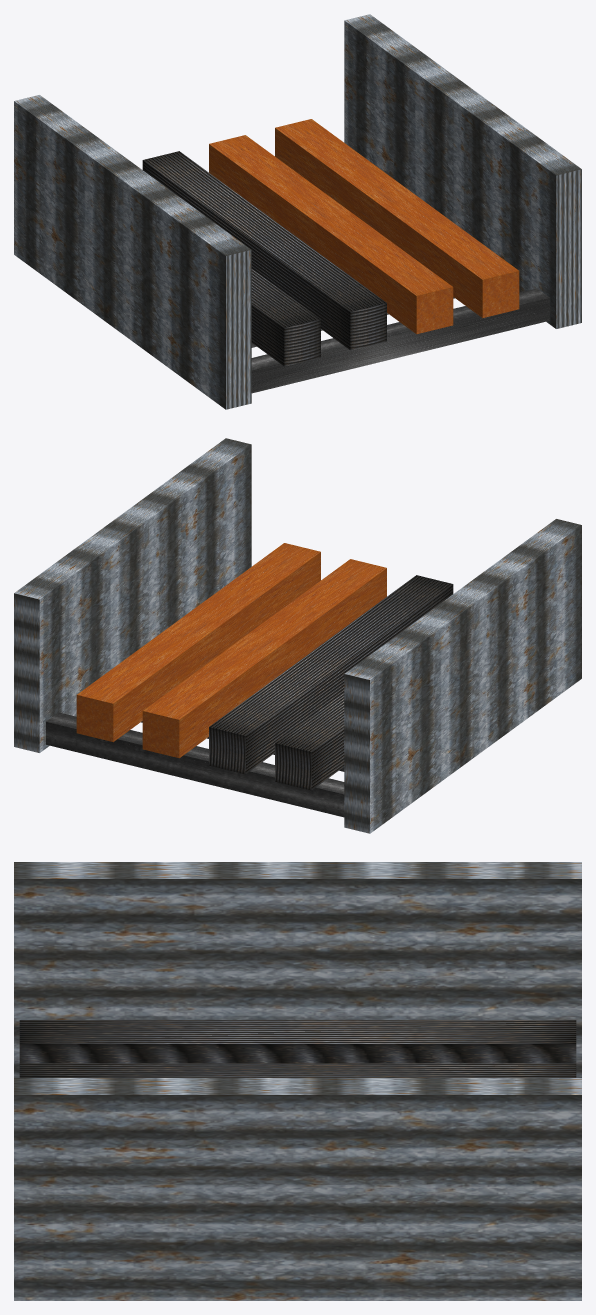
The model's file is cable-tray.obj.
3 views of the same model, one above another, from view 1: azimuth 30°, elevation 25°; view 2: azimuth 150°, elevation 25°; view 3: azimuth 270°, elevation 25° (orthographic). The views are drawn at different scales.
Visible parts, largest first — view 1: cable-tray; view 2: cable-tray; view 3: cable-tray.
Boxes of the visible parts, x1,y1,x2,y2 form: cable-tray: [14, 14, 581, 409]; cable-tray: [14, 438, 581, 833]; cable-tray: [14, 862, 581, 1300].
Bounding box in the file's own units: 0.97 × 0.4 × 1.
2 materials, 2 textured.
